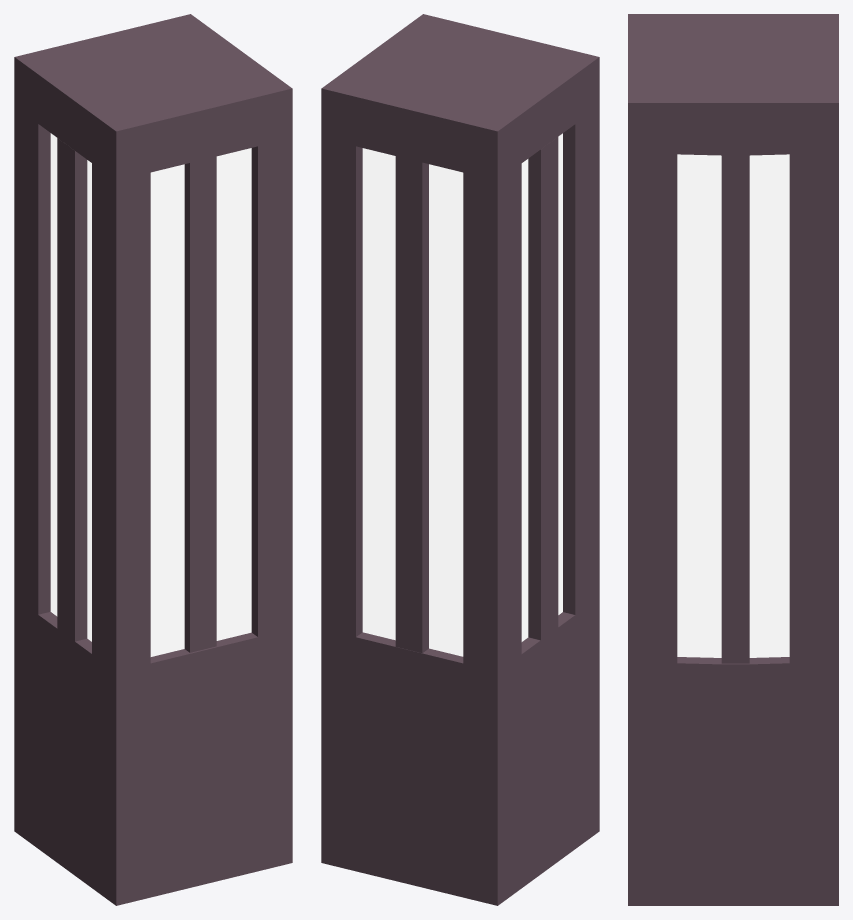
File: SkyScraperM3.glb
3 views of the same model, side by side, from view 1: azimuth 30°, elevation 25°; view 2: azimuth 150°, elevation 25°; view 3: azimuth 270°, elevation 25° (orthographic). The views are drawn at different scales.
Visible parts, largest first — view 1: base_building, building_windows; view 2: base_building, building_windows; view 3: base_building, building_windows.
Part boxes in pixels (x1,y1,x2,y2): base_building: (14,14,292,905); building_windows: (50,133,251,656); base_building: (321,14,599,905); building_windows: (362,133,562,656); base_building: (628,14,838,905); building_windows: (677,154,789,657).
Bounding box in the file's own units: 9.37 × 39.3 × 9.36.
